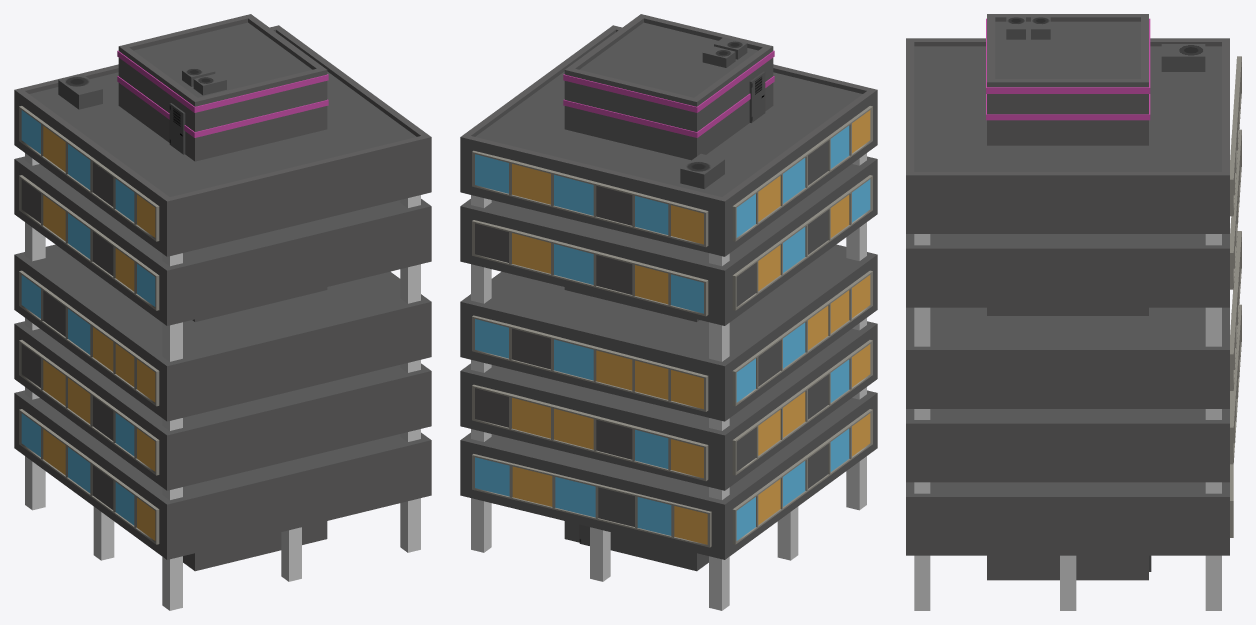
Rendered from building c 3.FBX.
3 renders of one model, left to right at view 1: azimuth 30°, elevation 25°; view 2: azimuth 150°, elevation 25°; view 3: azimuth 270°, elevation 25°, orthographic. The views are drawn at different scales.
Parts seen in each view (by area): view 1: Box399; view 2: Box399; view 3: Box399.
Part boxes in pixels (left/top/right/bottom): Box399: left=14, top=14, right=431, bottom=610; Box399: left=460, top=14, right=877, bottom=610; Box399: left=906, top=14, right=1241, bottom=610.
Bounding box in the file's own units: 51.39 × 87.13 × 52.65.
Materials: 1 (1 with a texture image).
